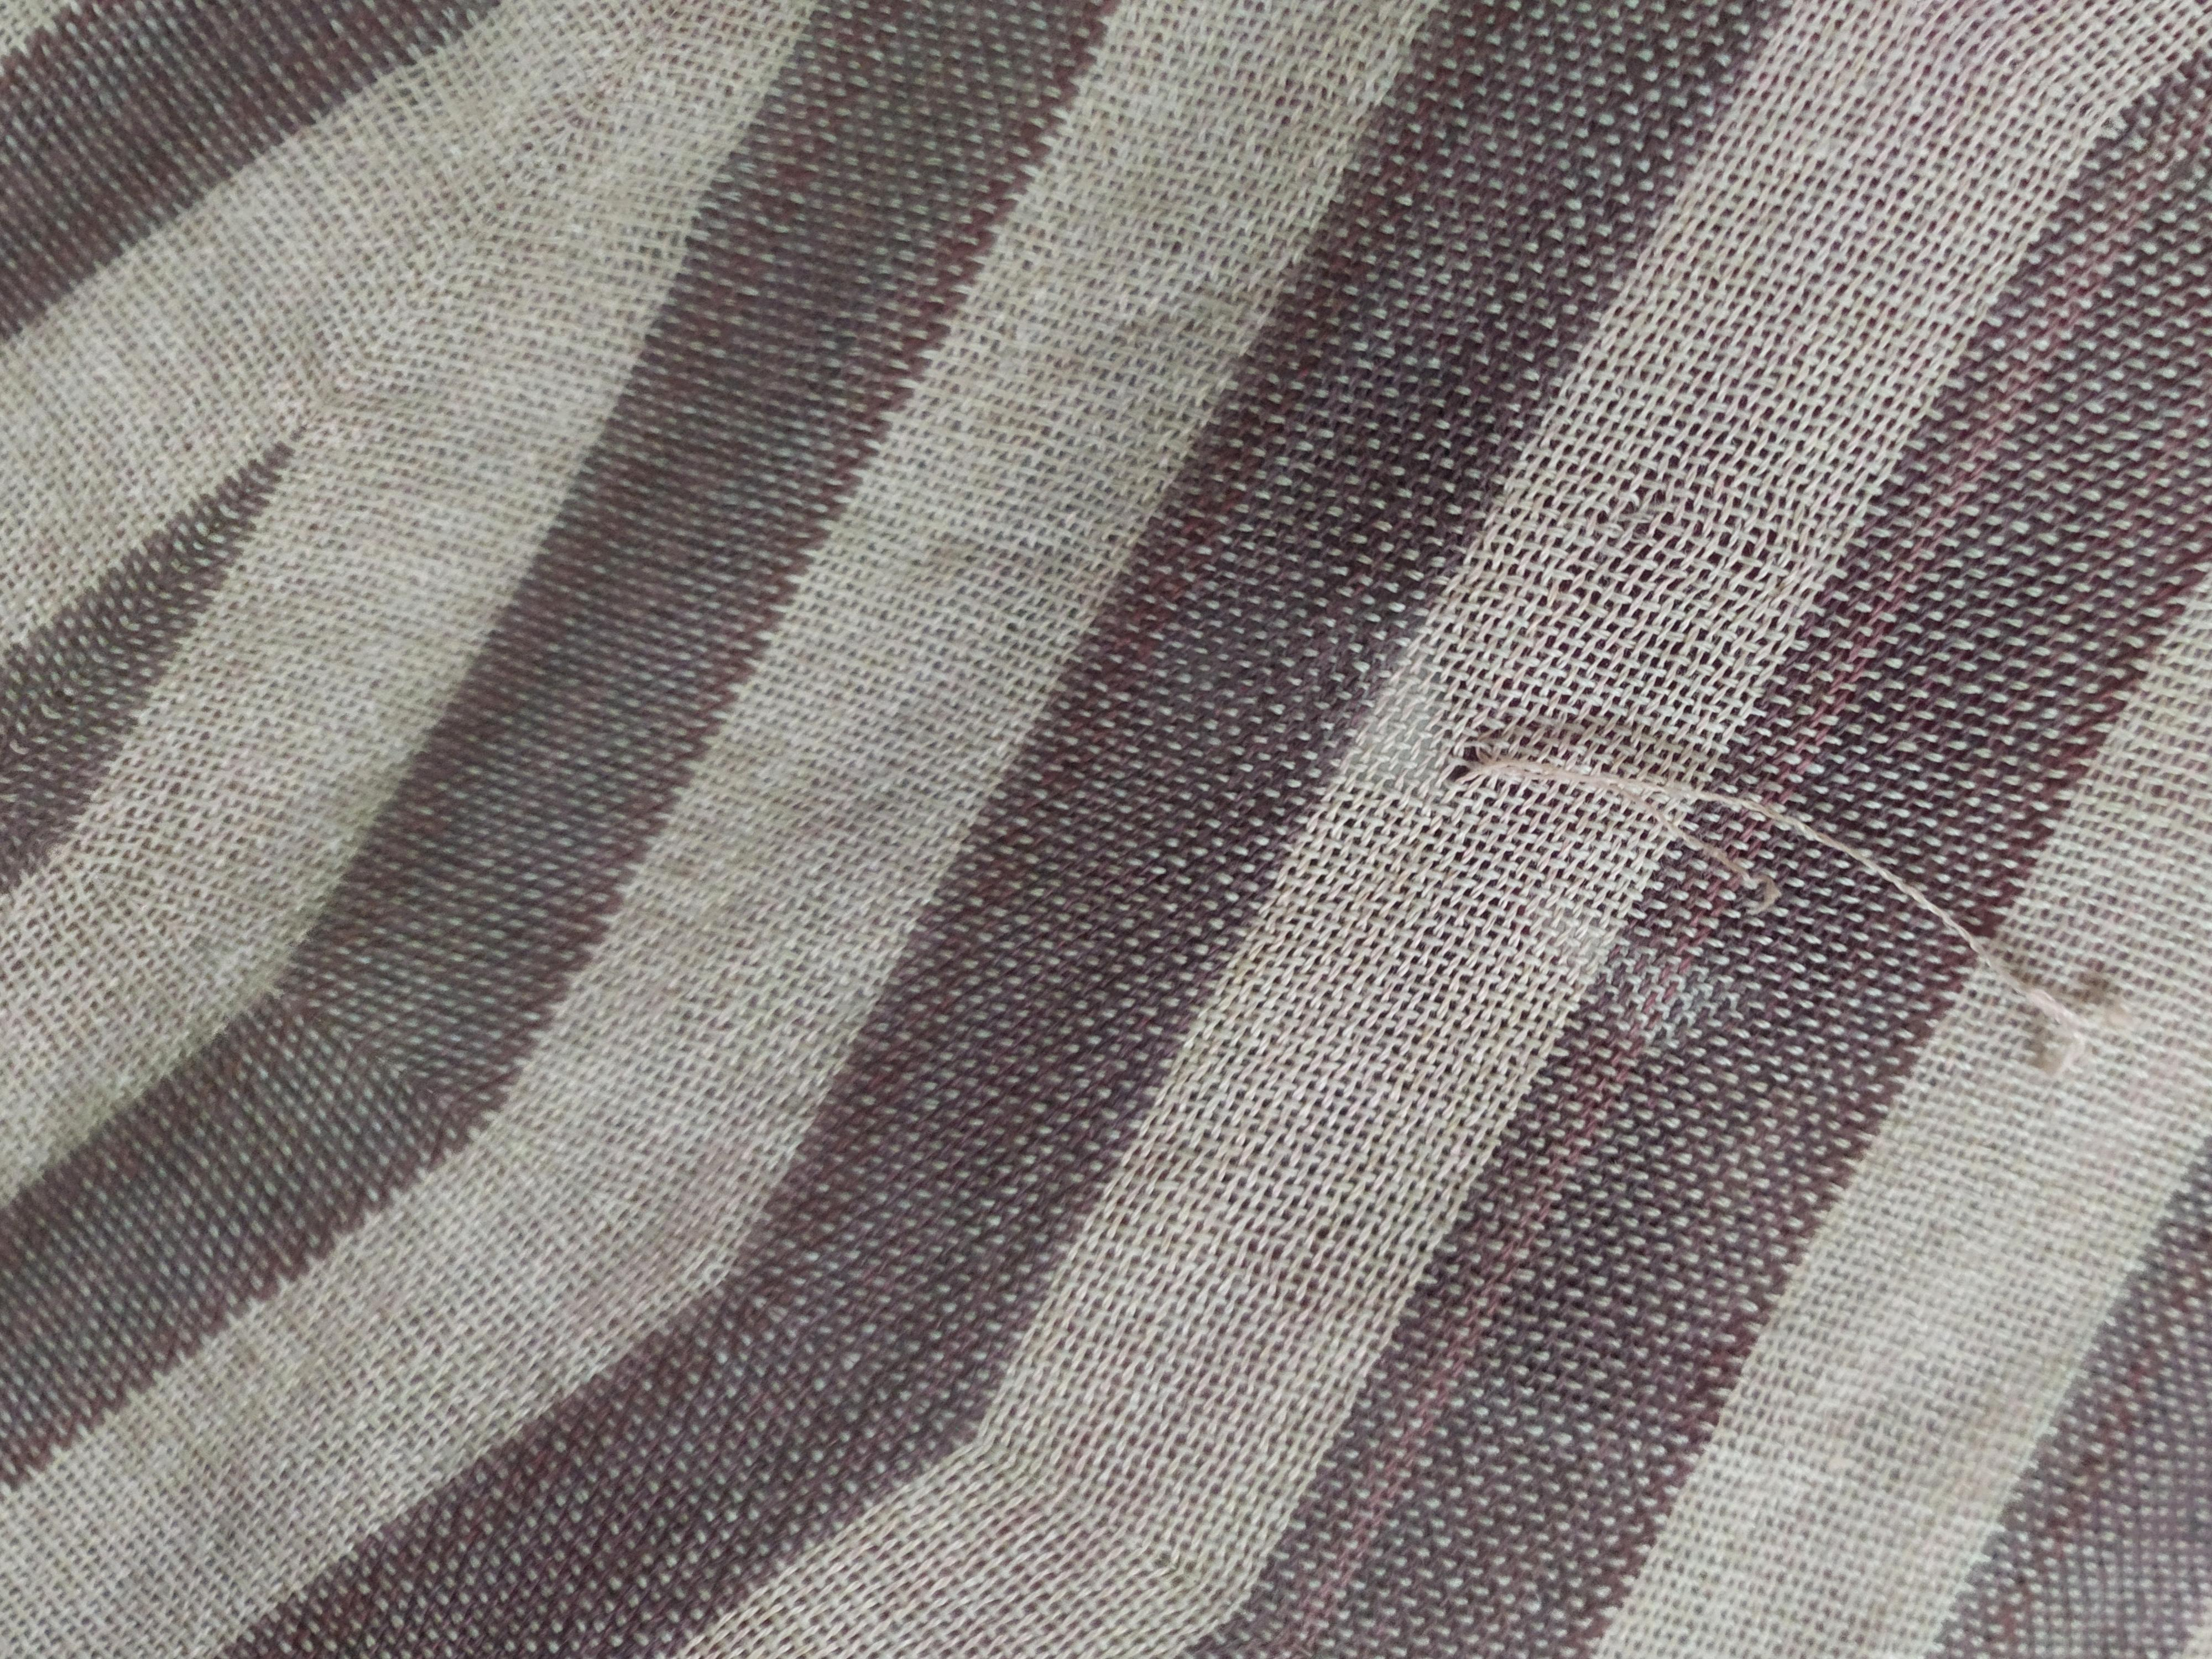snag: (1413, 694, 2161, 1084)
